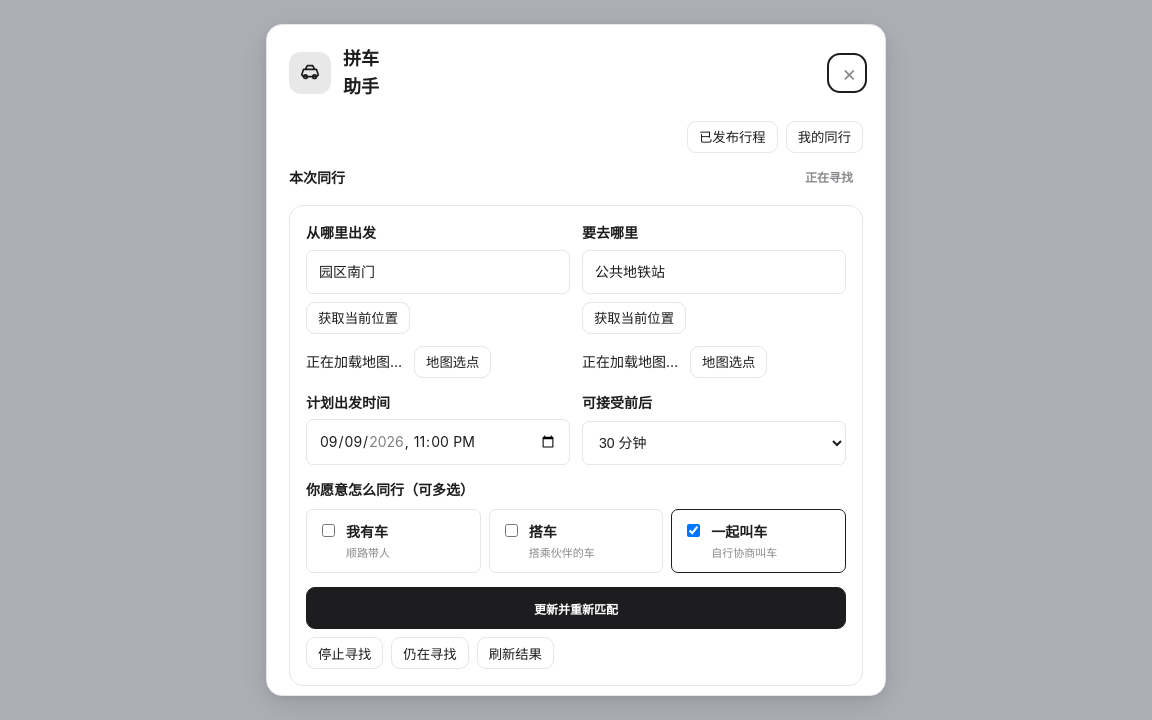
Scenario: 拼车助手界面 › shows the reported freshness recent (8) as 8 分钟前仍在寻找 without mislabelling it
The width and height of the screenshot is (1152, 720).
Step 1. Click the button "已发布行程" → (732, 137), box top-left (687, 121), bottom-right (778, 153)
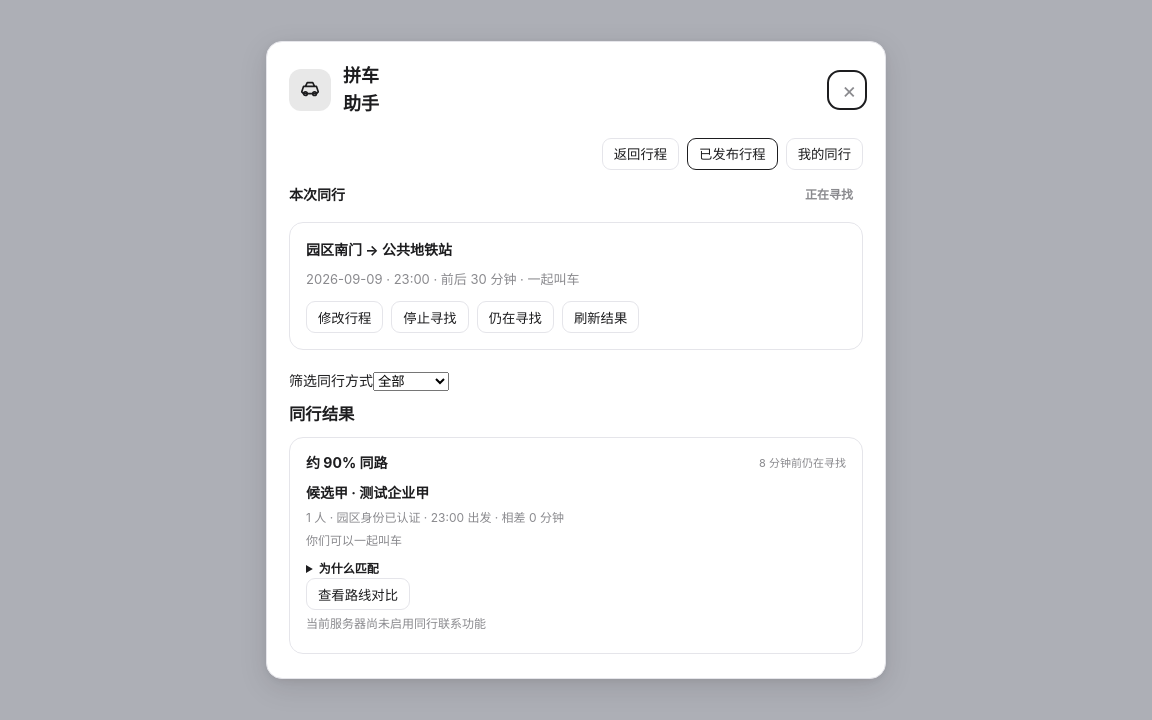
Check: the text "8 分钟前仍在寻找" is shown, box top-left (759, 455), bottom-right (846, 472)
